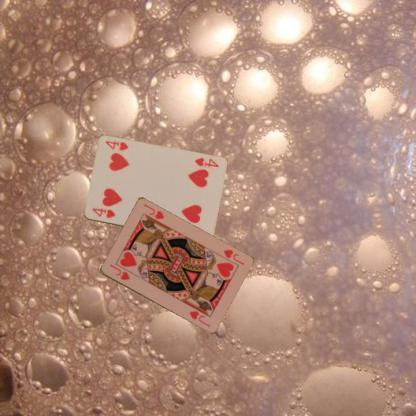4h: (192, 155, 220, 169), (90, 206, 116, 220)
Jh: (220, 246, 246, 266), (106, 262, 130, 282)
